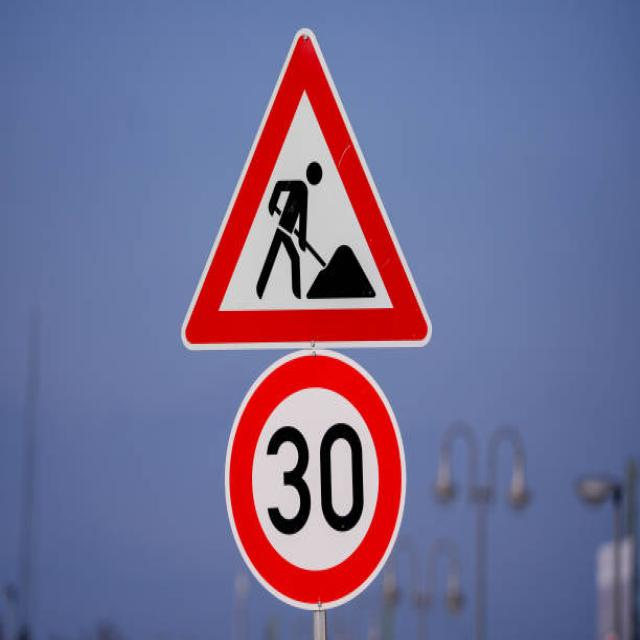Speed limit 30: (223, 347, 409, 613)
